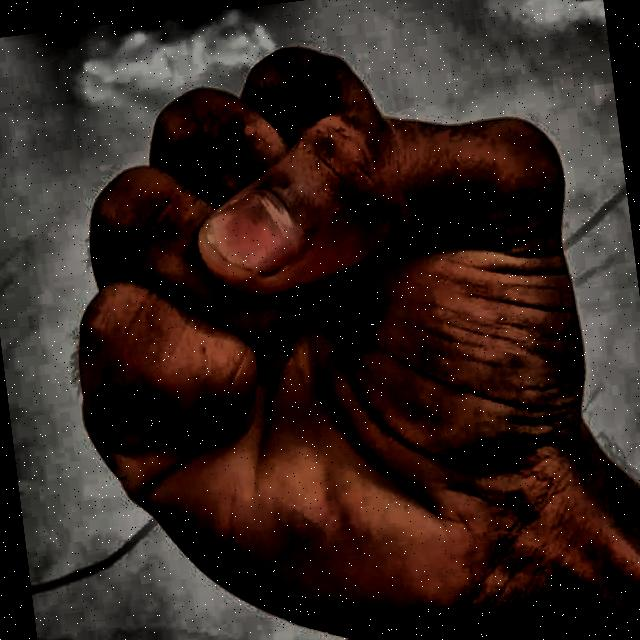Sha: (6, 0, 639, 640)
